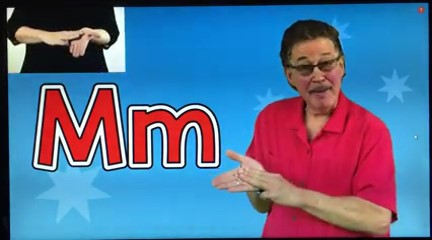M: (207, 146, 300, 210)
